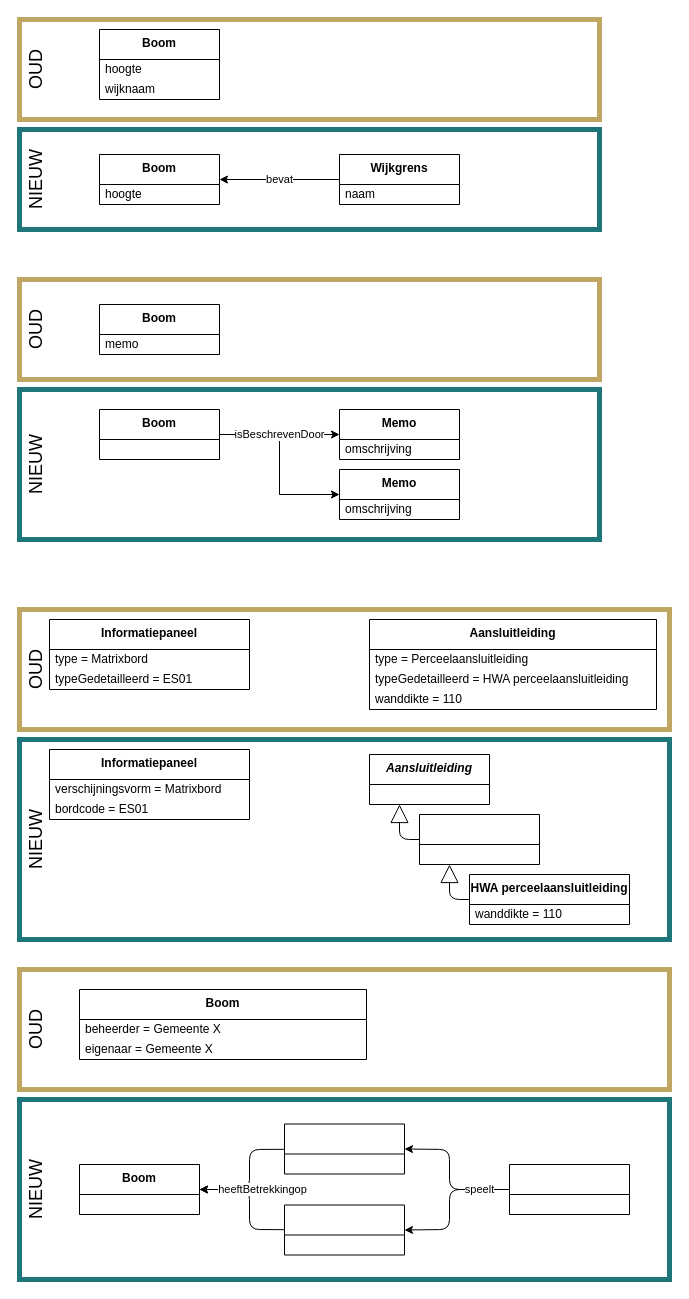
Image size: 689x1299. Some labels were removed from this diagram. Each missing label, with the centre of its shape:
"Beheerder" belongs at point (344, 1148).
"Eigenaar" belongs at point (344, 1229).
"Gemeente X" belongs at point (569, 1189).
"Perceelaansluiting" belongs at point (479, 839).
